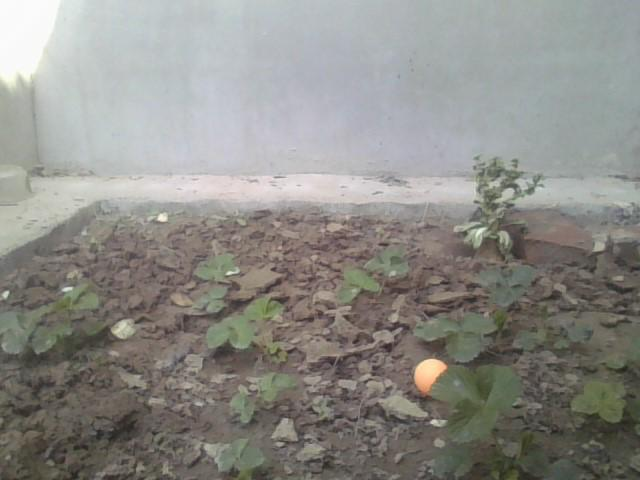ball: (415, 361, 448, 395)
